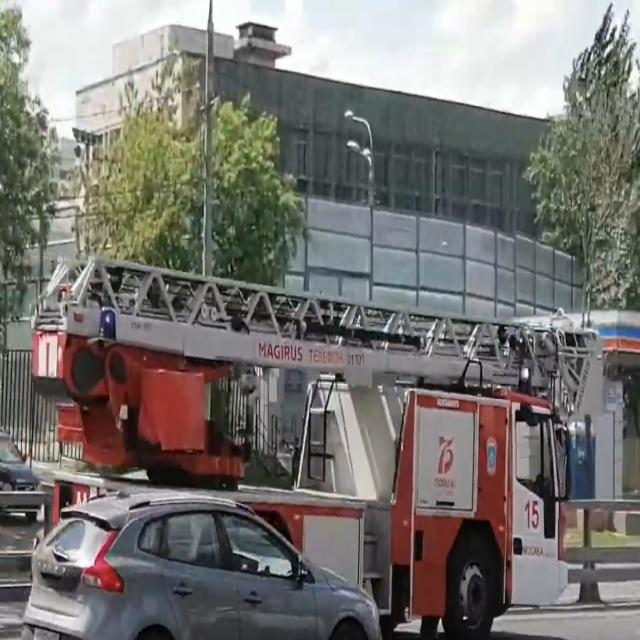fire fighting vehicle: (26, 254, 602, 639)
non emergency car: (24, 489, 385, 638), (1, 424, 45, 524)
